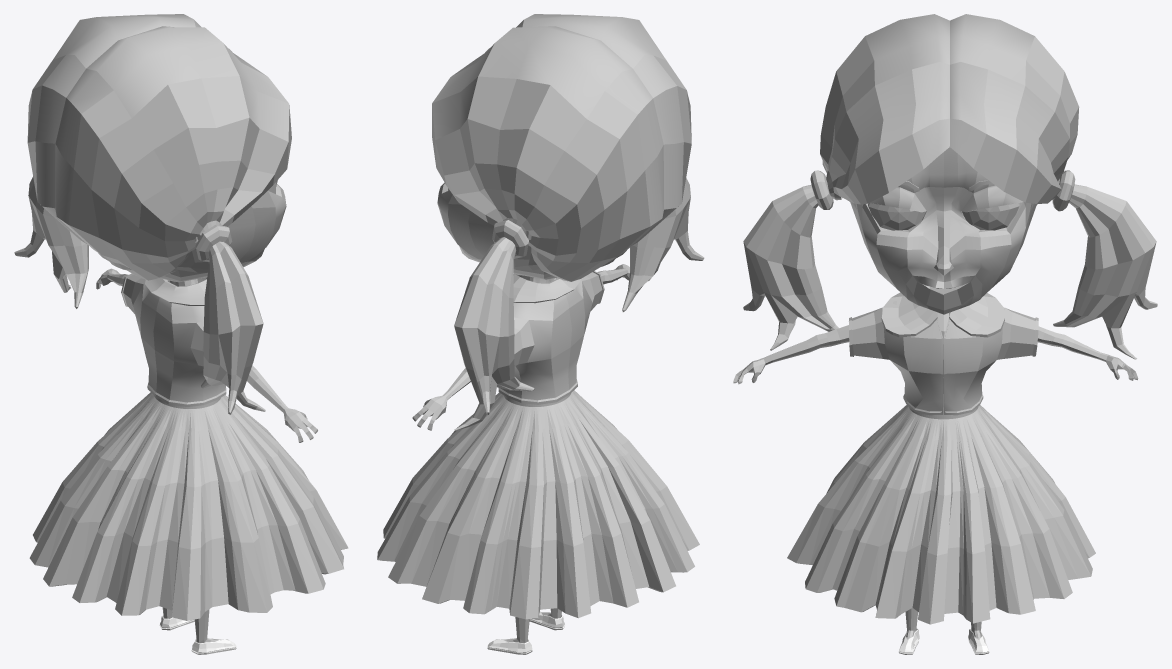
Rendered from Girl.fbx.
3 views of the same model, side by side, from view 1: azimuth 30°, elevation 25°; view 2: azimuth 150°, elevation 25°; view 3: azimuth 270°, elevation 25° (orthographic). The views are drawn at different scales.
Parts seen in each view (by area): view 1: girl_hair, girl_skirt, girl_jacket, girl_girl, girl_hair_band_right, girl_right_shoe; view 2: girl_hair, girl_skirt, girl_jacket, girl_girl, girl_hair_band_left, girl_left_shoe; view 3: girl_hair, girl_skirt, girl_girl, girl_jacket, girl_left_eye1, left_eye_girl.
Part boxes in pixels (x1,y1,x2,y2): girl_hair: (14, 14, 291, 414); girl_skirt: (29, 392, 348, 620); girl_jacket: (121, 273, 226, 406); girl_girl: (96, 182, 317, 442); girl_hair_band_right: (195, 225, 232, 261); girl_right_shoe: (191, 638, 236, 654); girl_hair: (432, 14, 704, 430); girl_skirt: (377, 390, 699, 619); girl_jacket: (498, 271, 604, 404); girl_girl: (412, 182, 629, 430); girl_hair_band_left: (492, 220, 528, 258); girl_left_shoe: (487, 638, 532, 654); girl_hair: (743, 14, 1157, 359); girl_skirt: (787, 404, 1095, 624); girl_girl: (733, 147, 1138, 384); girl_jacket: (848, 292, 1038, 415); girl_left_eye1: (868, 203, 925, 230); left_eye_girl: (962, 203, 1019, 230).
Size of the model in its own units: 3.05 by 6.5 by 4.18.
